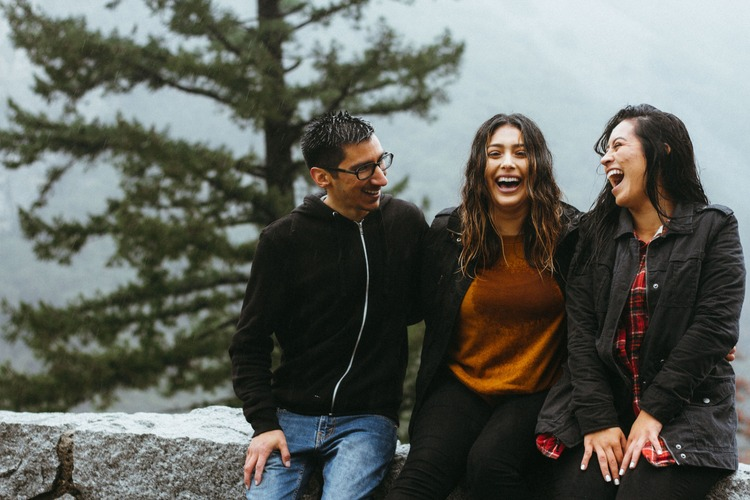without_mask: (332, 142, 389, 212), (482, 136, 535, 208), (599, 133, 641, 206)
